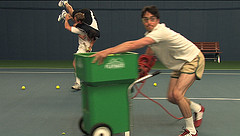tennis ball: (54, 84, 62, 91), (152, 81, 159, 88), (20, 85, 27, 90), (61, 132, 67, 136)
